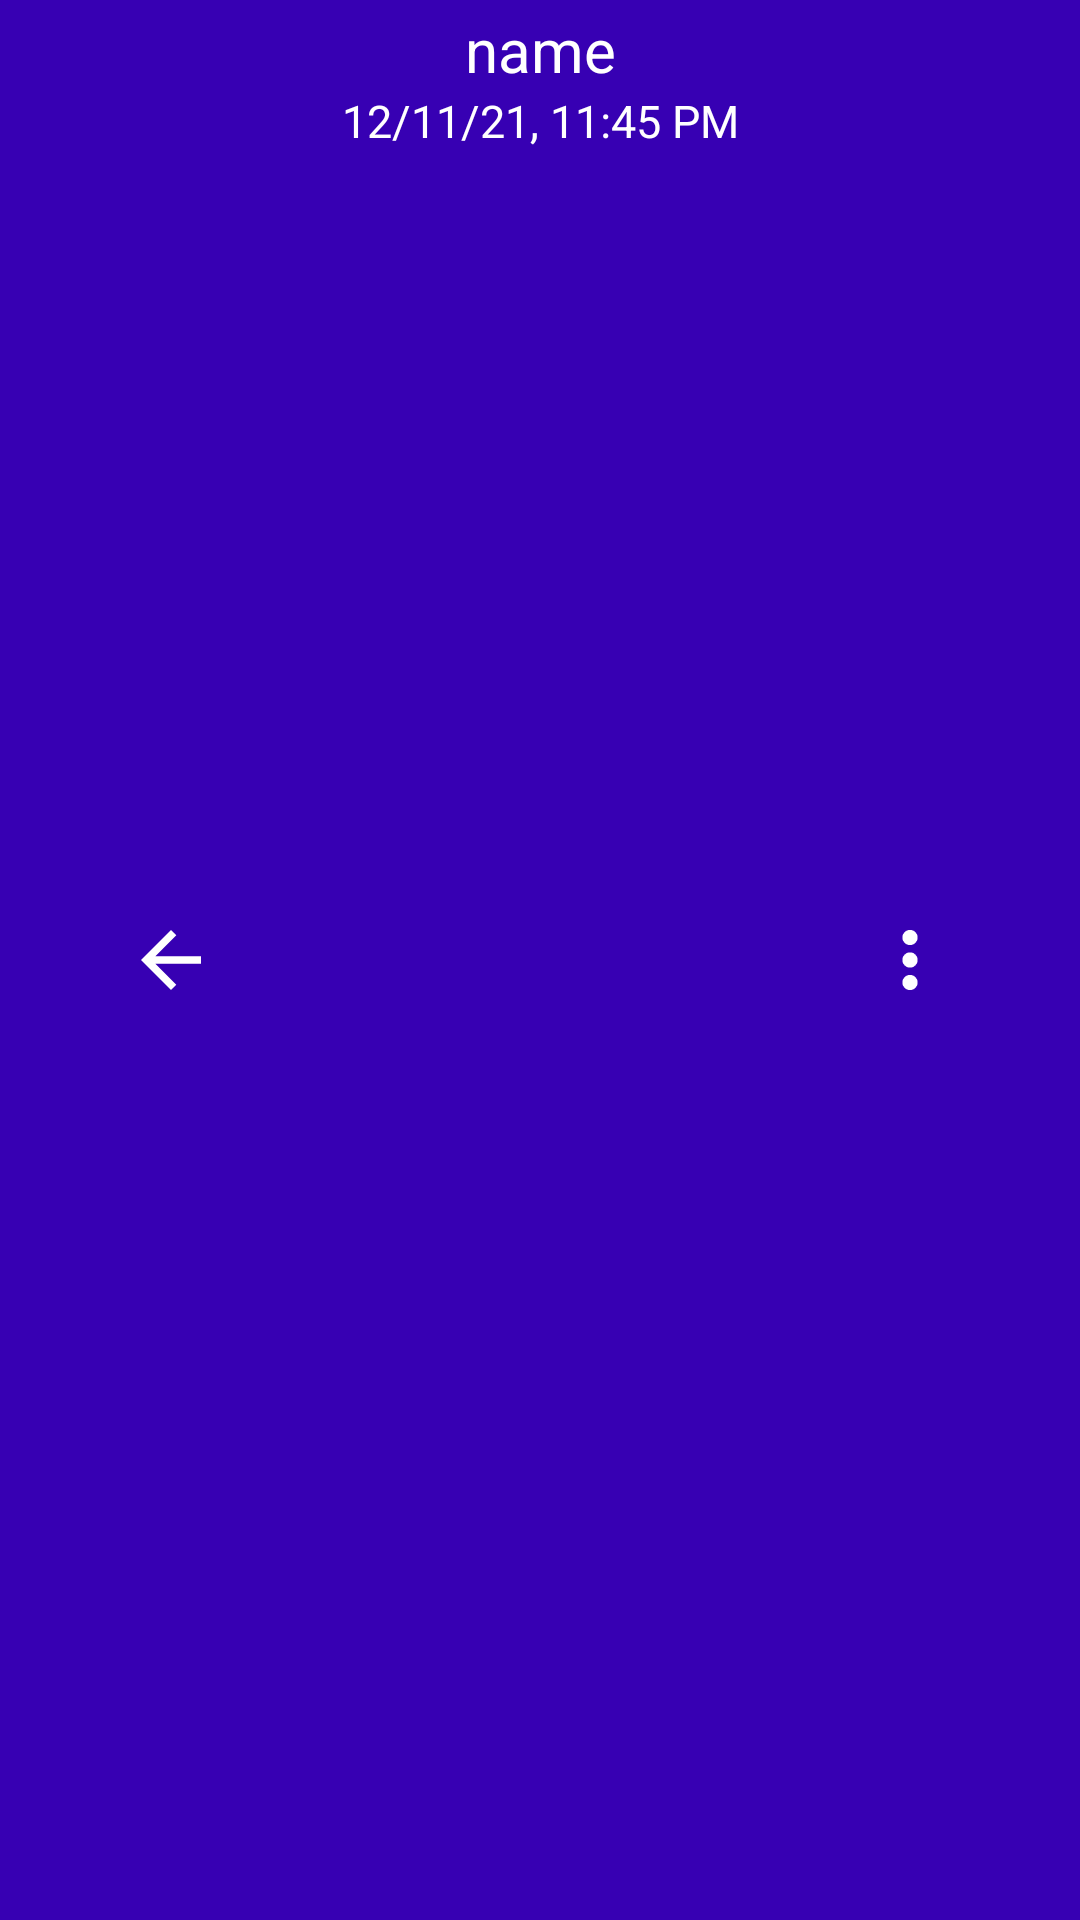

Named icons in this screenshot (1080 x 1920) and their centers, (x,y):
arrow back: (171,960)
three dots: (910,960)
